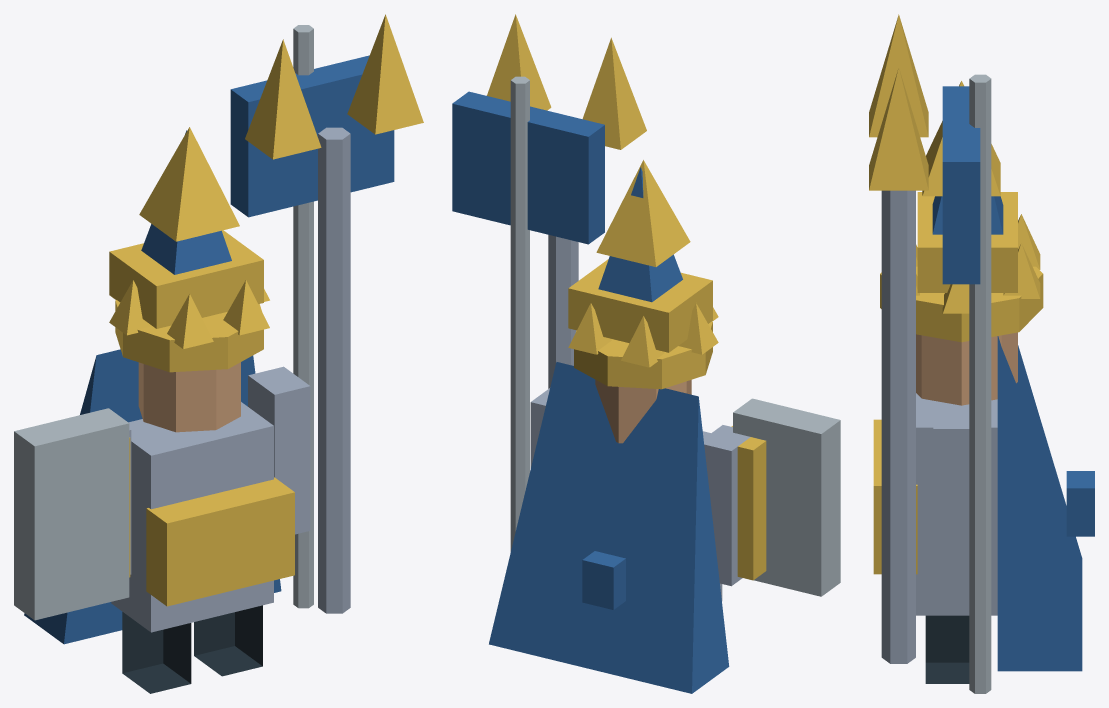
Rendered from converter.obj.
3 renders of one model, left to right at view 1: azimuth 30°, elevation 25°; view 2: azimuth 150°, elevation 25°; view 3: azimuth 270°, elevation 25°, orthographic. The views are drawn at different scales.
Parts seen in each view (by area): view 1: hero; view 2: hero; view 3: hero.
Boxes of the visible parts, x1,y1,x2,y2 form: hero: (14,14,423,693); hero: (452,14,840,693); hero: (869,14,1094,693).
Bounding box in the file's own units: 1.48 × 2.37 × 0.72.
